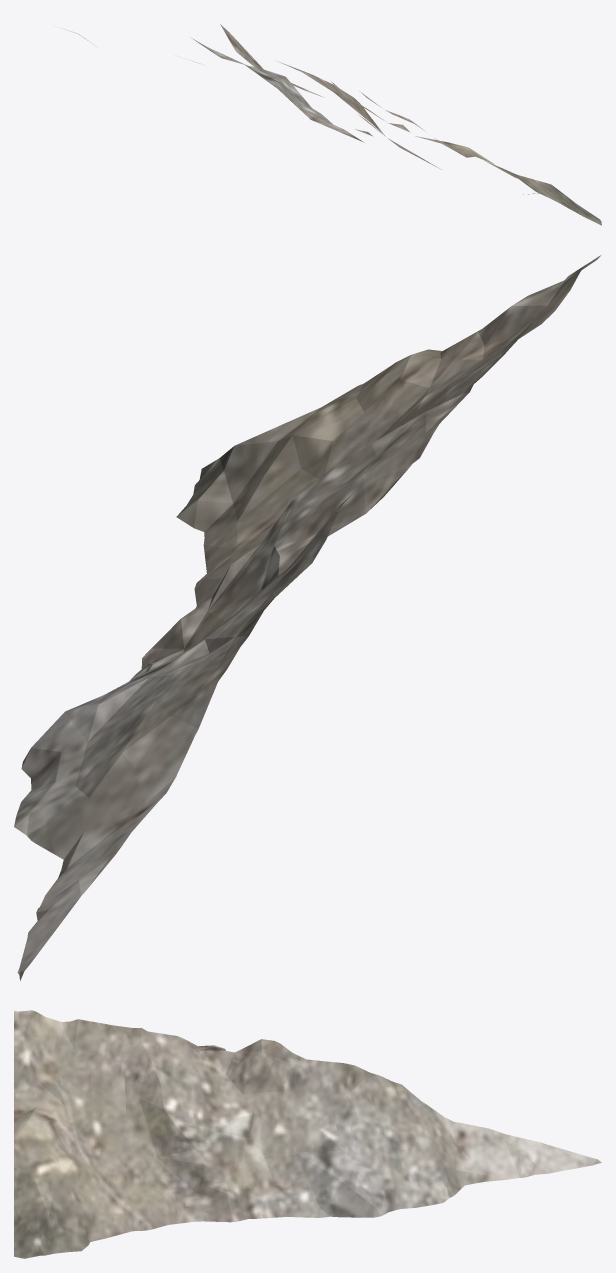
The picture shows the model from 3 angles, top to bottom: view 1: azimuth 30°, elevation 25°; view 2: azimuth 150°, elevation 25°; view 3: azimuth 270°, elevation 25°; orthographic projection. The views are drawn at different scales.
Bounding box in the file's own units: 1.07 × 0.7931 × 2.77.
1 material, 1 textured.
